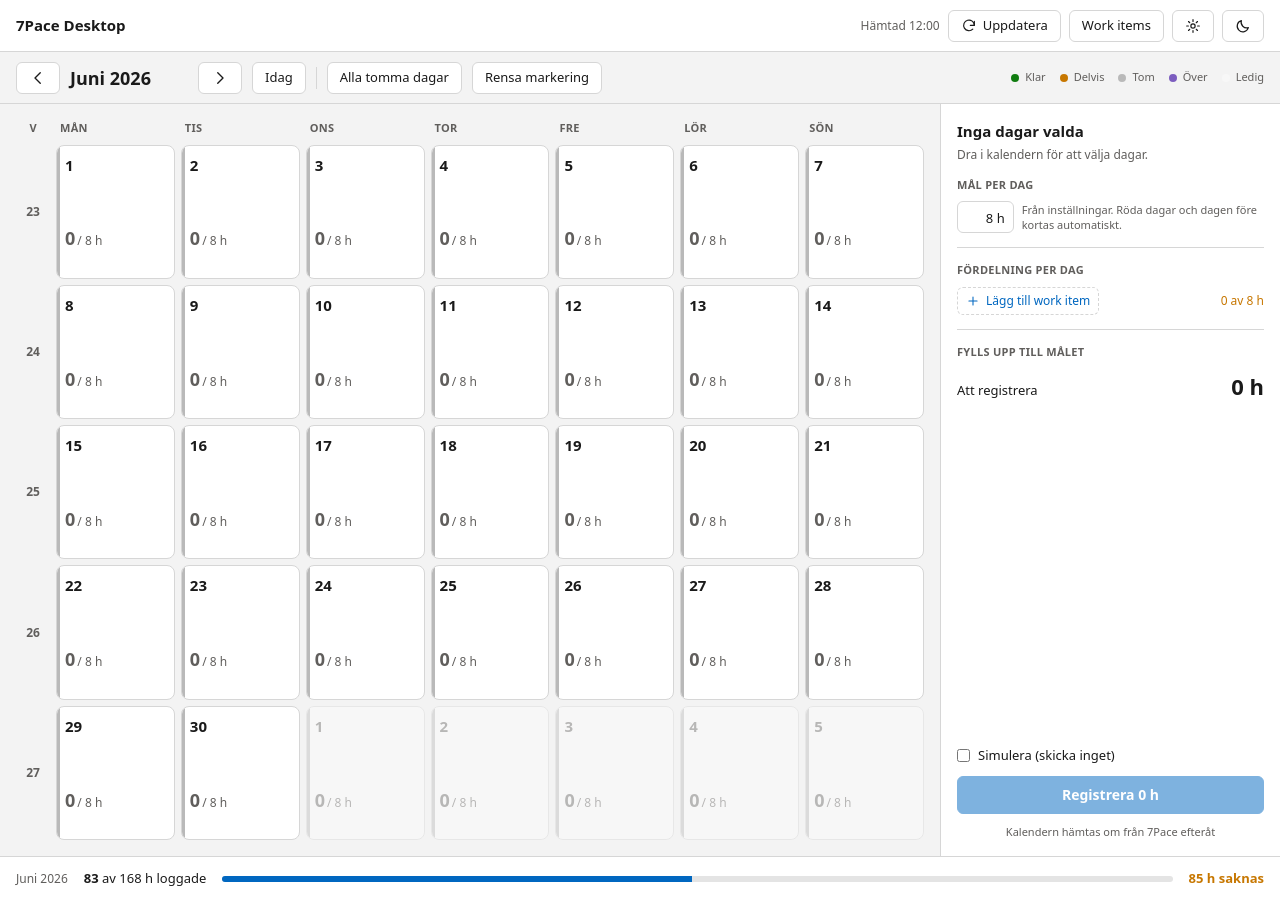
it: MonthView › badges the planned top-up on selected days
Click the button named "2026-06-22": (115, 633) [56,565,175,700]
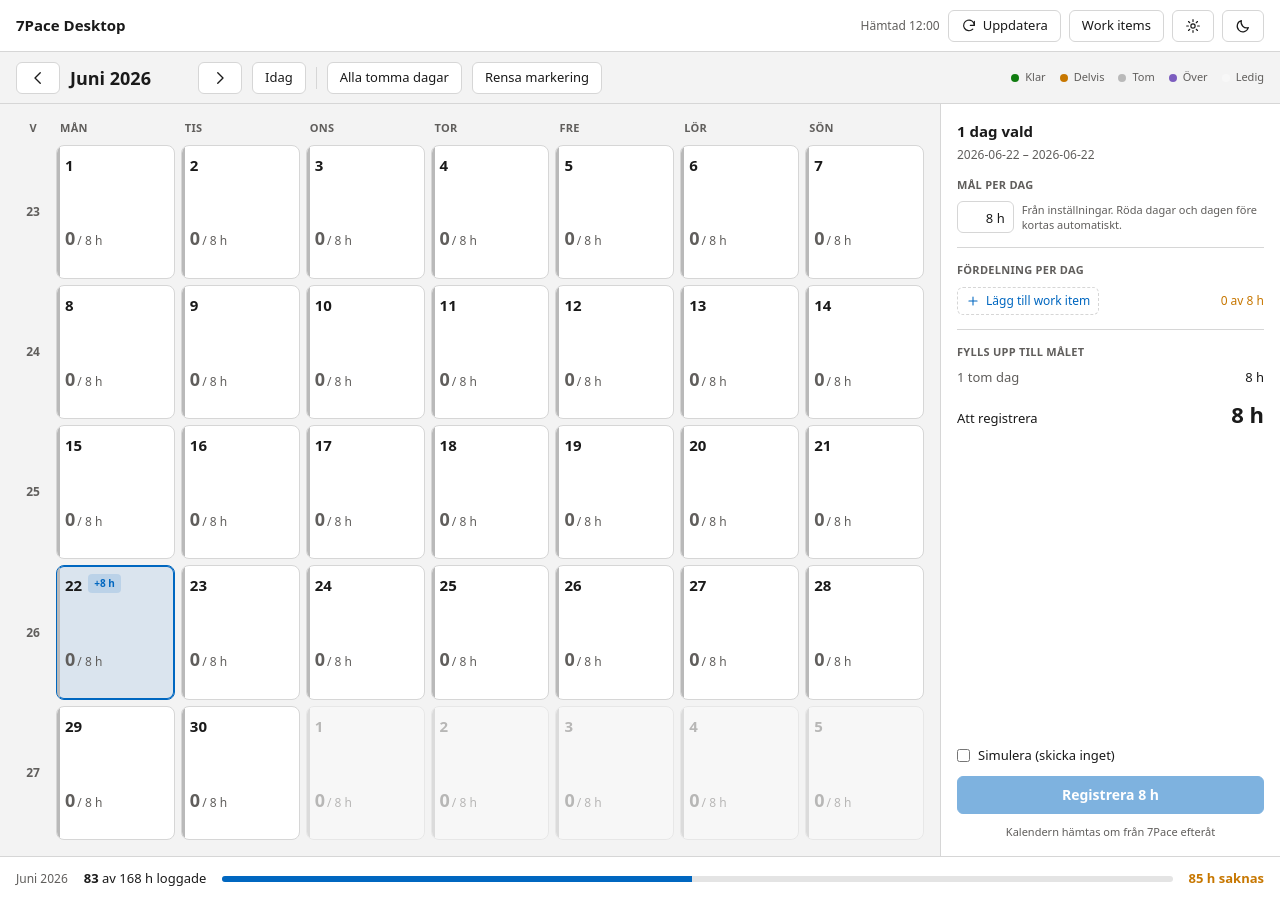
Now the text "+8 h" is shown, box [88,574,121,593]
